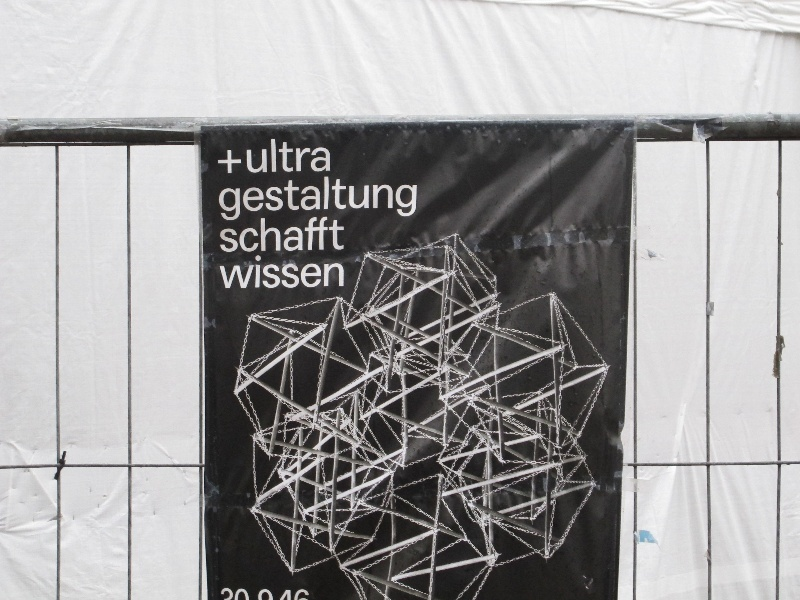text: (225, 174, 240, 222), (241, 174, 256, 222), (257, 174, 272, 222), (273, 174, 288, 222), (289, 174, 304, 222), (305, 174, 320, 222), (321, 174, 336, 222), (337, 174, 352, 222), (353, 174, 368, 222), (369, 174, 384, 222), (385, 174, 400, 222), (401, 174, 416, 222), (225, 253, 240, 289), (241, 253, 256, 289), (257, 253, 272, 289), (273, 253, 288, 289), (289, 253, 304, 289), (305, 253, 320, 289), (321, 253, 336, 289), (225, 217, 240, 253), (241, 217, 256, 253), (257, 217, 272, 253), (273, 217, 288, 253), (289, 217, 304, 253), (305, 217, 320, 253), (321, 217, 336, 253), (225, 139, 240, 174), (241, 139, 256, 174), (257, 139, 272, 174), (273, 139, 288, 174), (289, 139, 304, 174), (305, 139, 320, 174), (321, 139, 332, 174), (216, 253, 224, 289), (337, 253, 345, 289), (337, 217, 345, 253), (218, 174, 224, 222), (218, 139, 224, 174), (225, 588, 240, 600), (241, 588, 256, 600), (257, 588, 272, 600), (273, 588, 288, 600), (289, 588, 304, 600), (220, 217, 224, 253), (417, 174, 418, 222), (220, 588, 224, 600), (305, 588, 309, 600)
